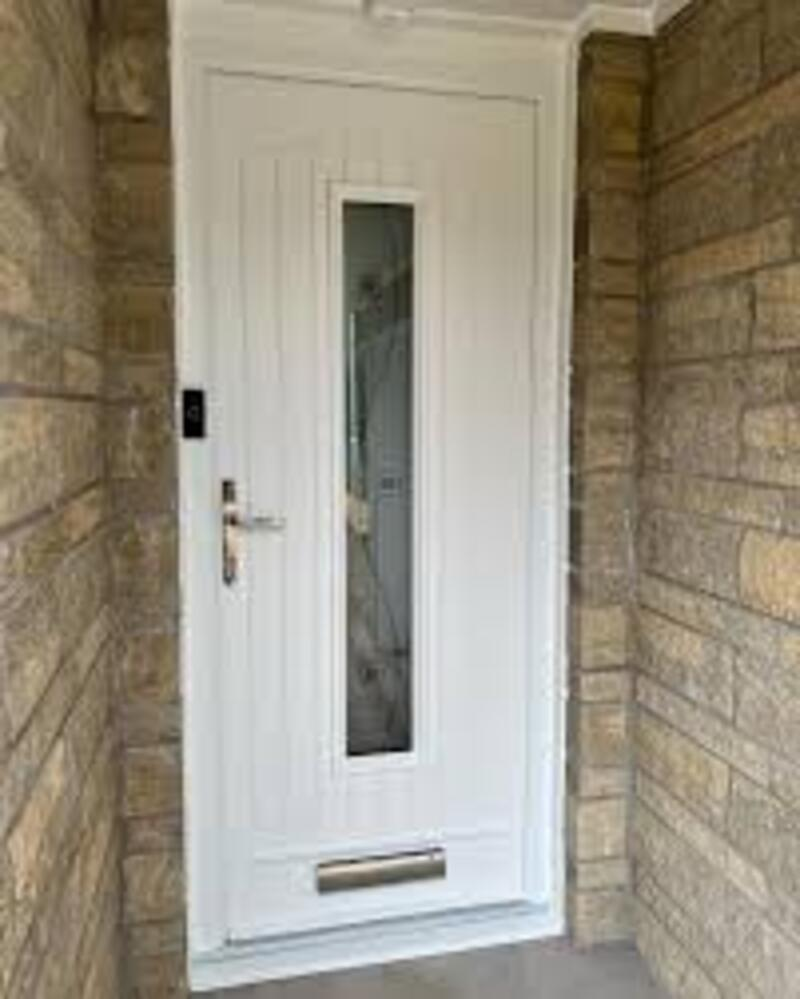doorbell: (171, 372, 215, 450)
